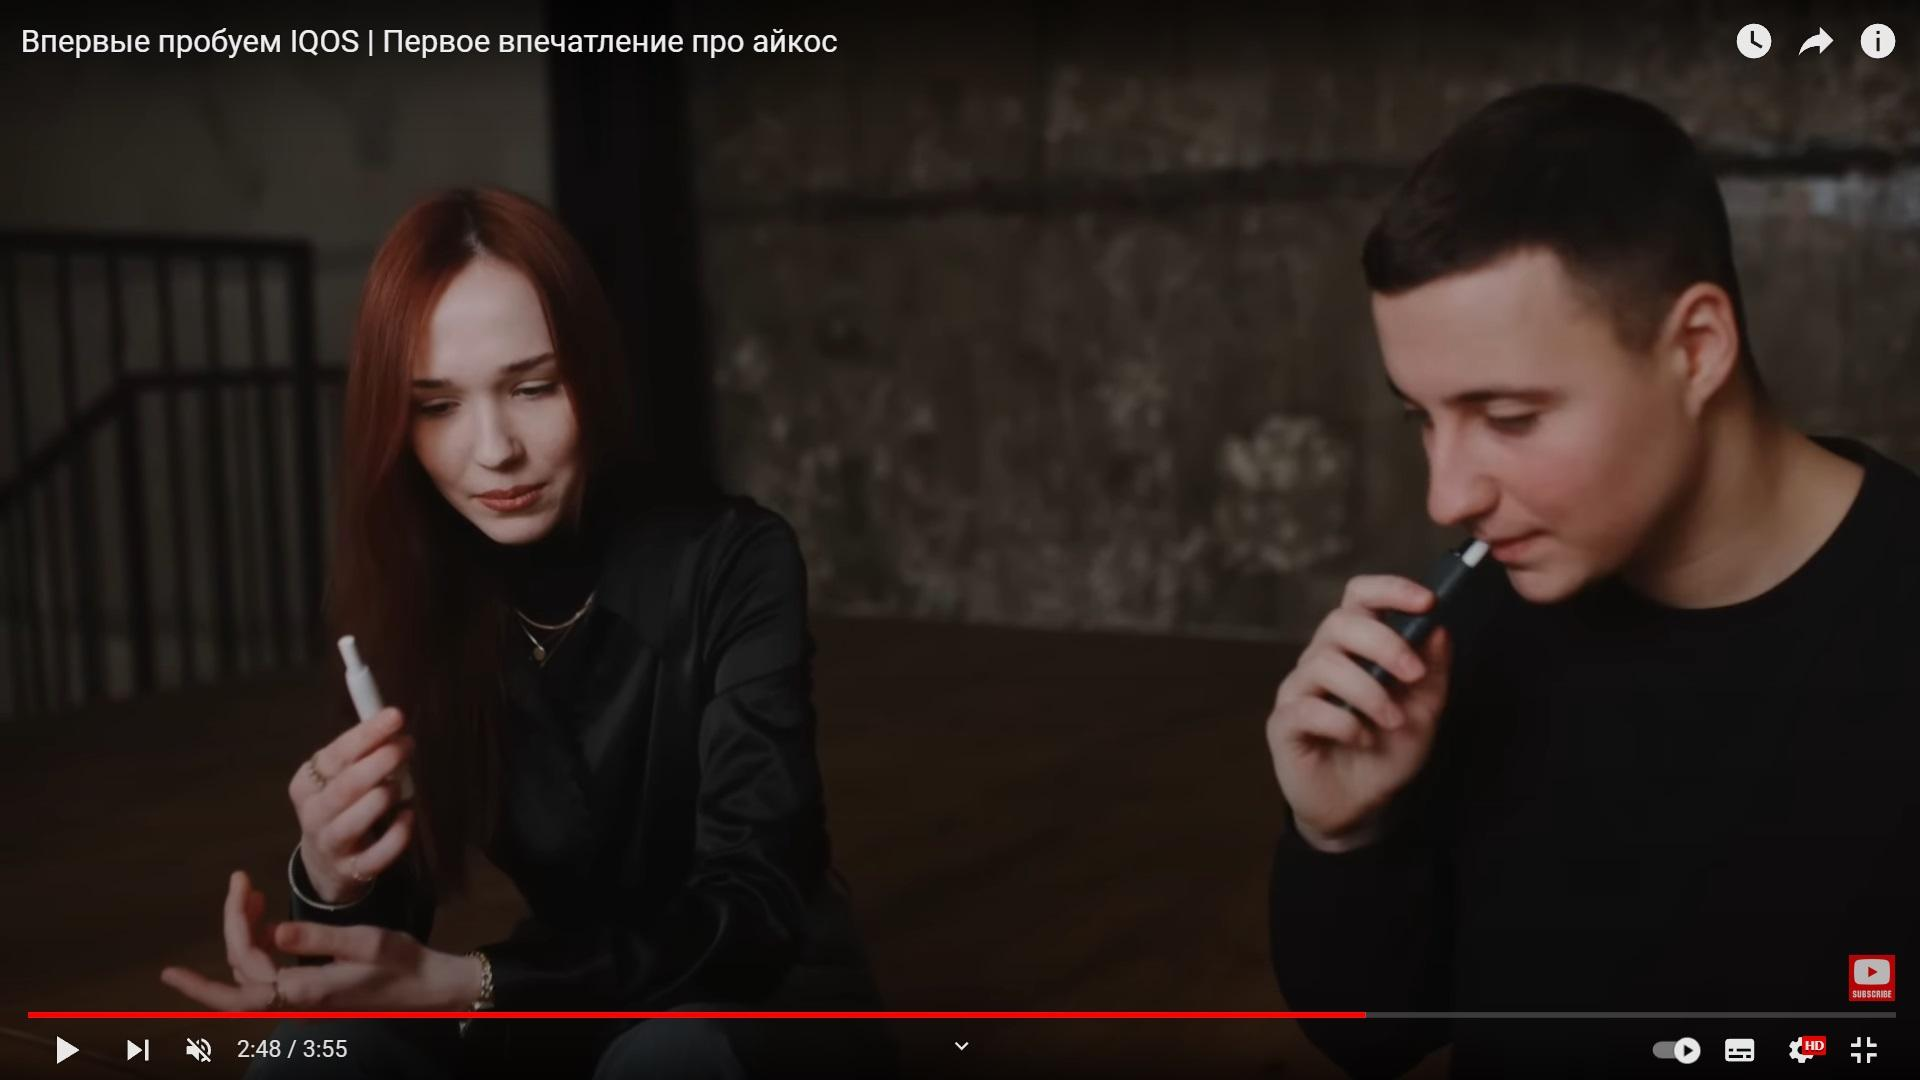iqos: (1323, 541, 1493, 716), (338, 634, 417, 800)
